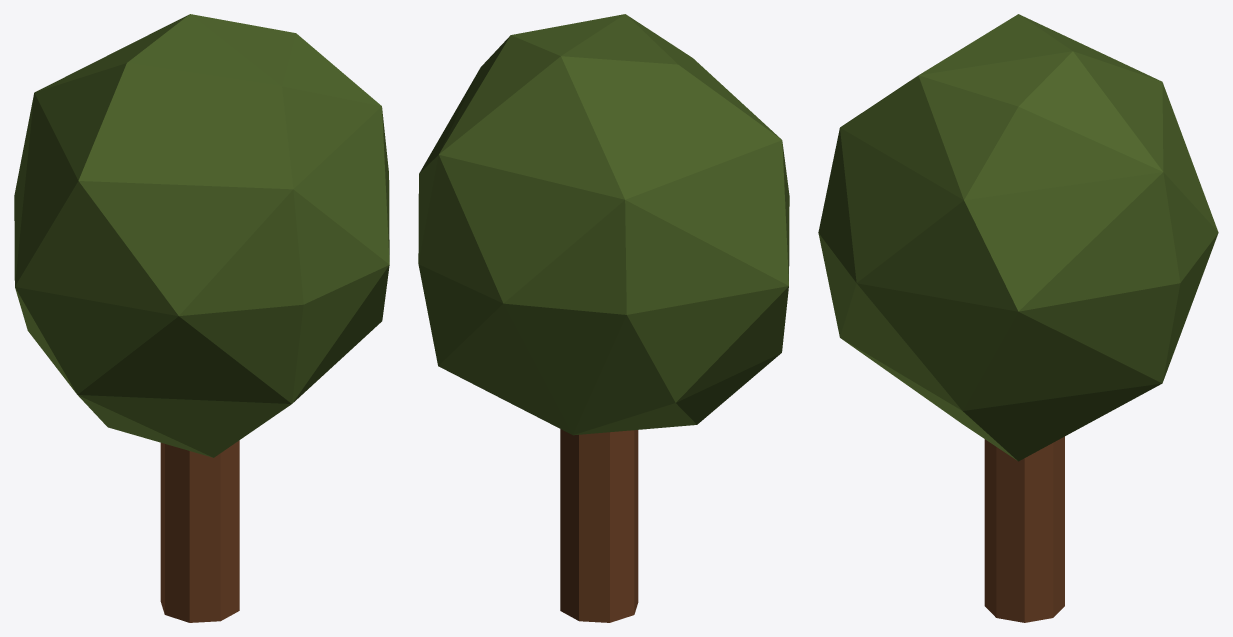
Rendered from Tree_4.fbx.
3 views of the same model, side by side, from view 1: azimuth 30°, elevation 25°; view 2: azimuth 150°, elevation 25°; view 3: azimuth 270°, elevation 25° (orthographic).
Visible parts, largest first — view 1: Tree_4; view 2: Tree_4; view 3: Tree_4.
Boxes of the visible parts, <box> form: Tree_4: <box>14,14,389,622</box>; Tree_4: <box>418,14,789,622</box>; Tree_4: <box>818,14,1218,622</box>.
Size of the model in its own units: 391 by 570 by 368.
